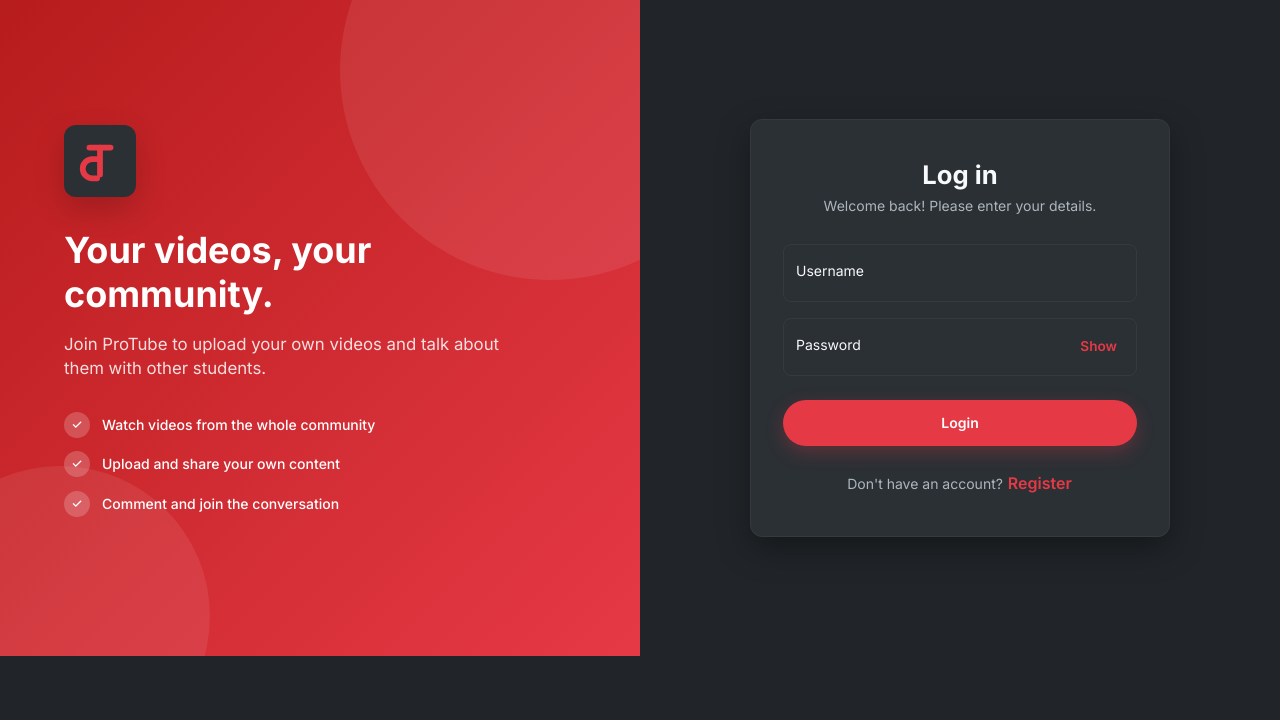
Test: LoginPage › switches to the register form and back
Click the button "Register". click: [1040, 483]
box: [1007, 470, 1073, 496]
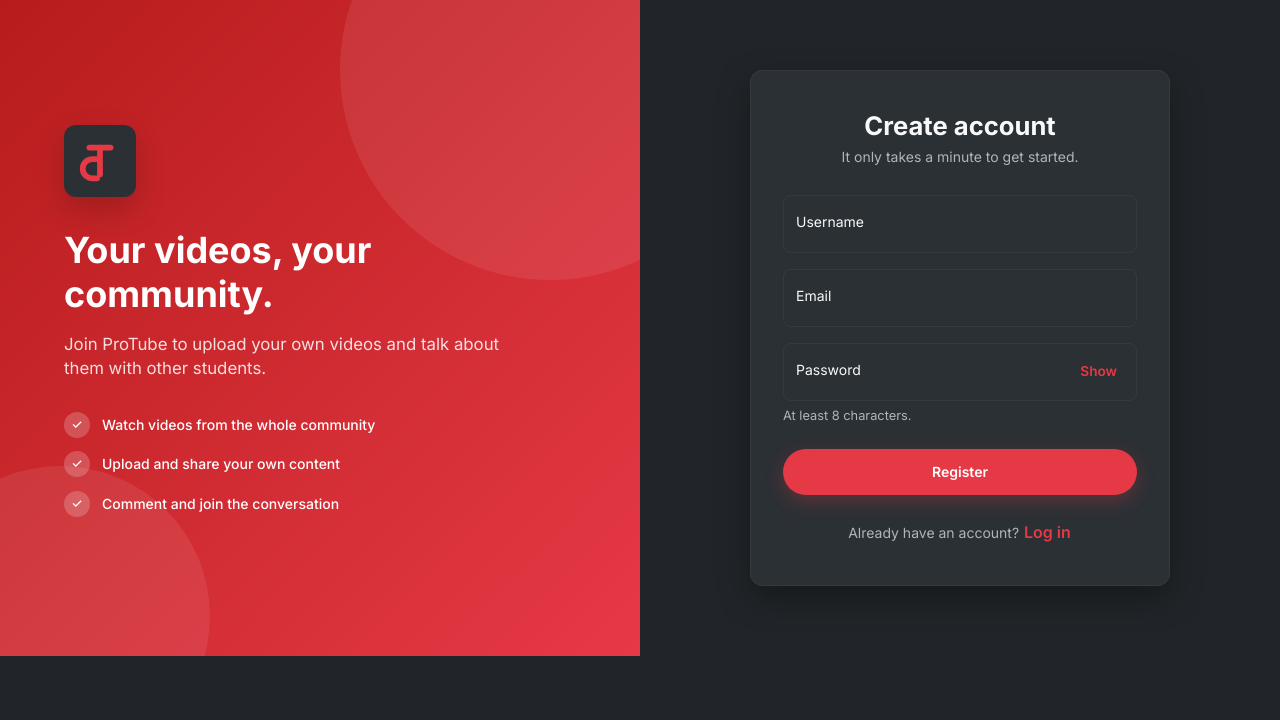
Now the heading "Create account" is shown, box [864, 110, 1056, 141]
Now the field labelled "Email" is shown, box [783, 269, 1137, 327]
Click the button "Log in". click: [1047, 532]
box: [1023, 519, 1072, 545]
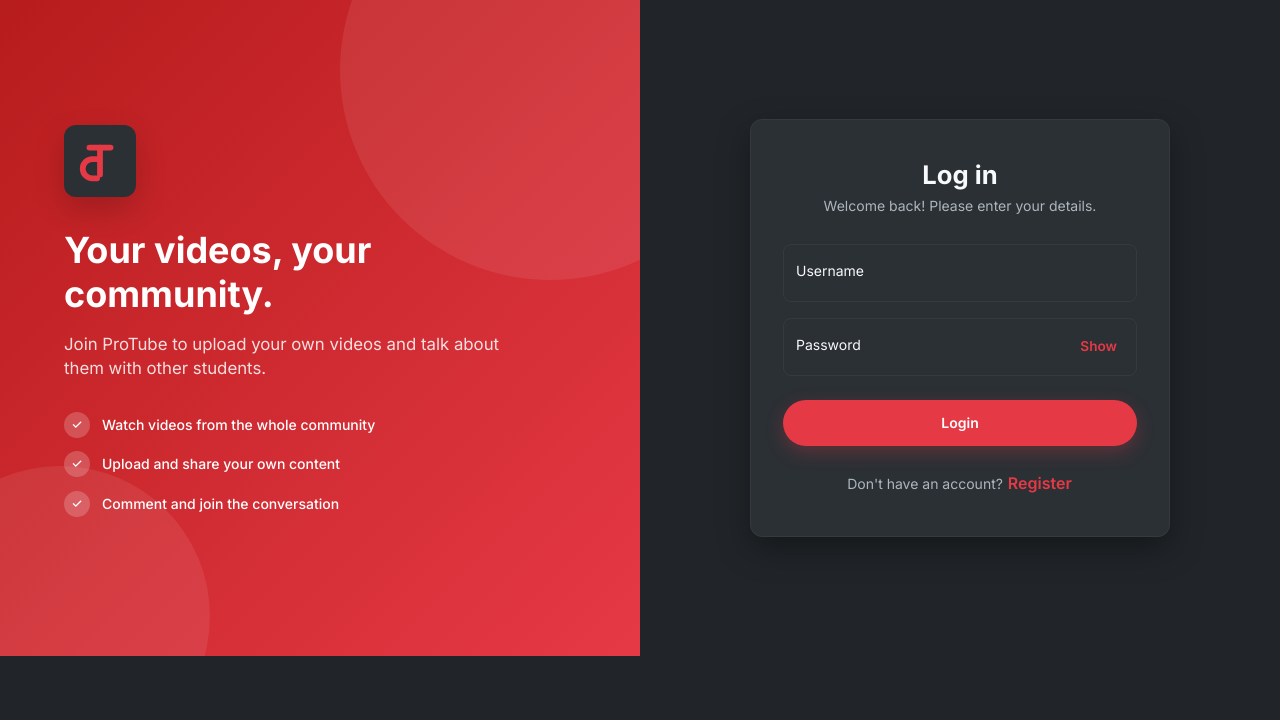
Now the heading "Log in" is shown, box [922, 159, 998, 190]
